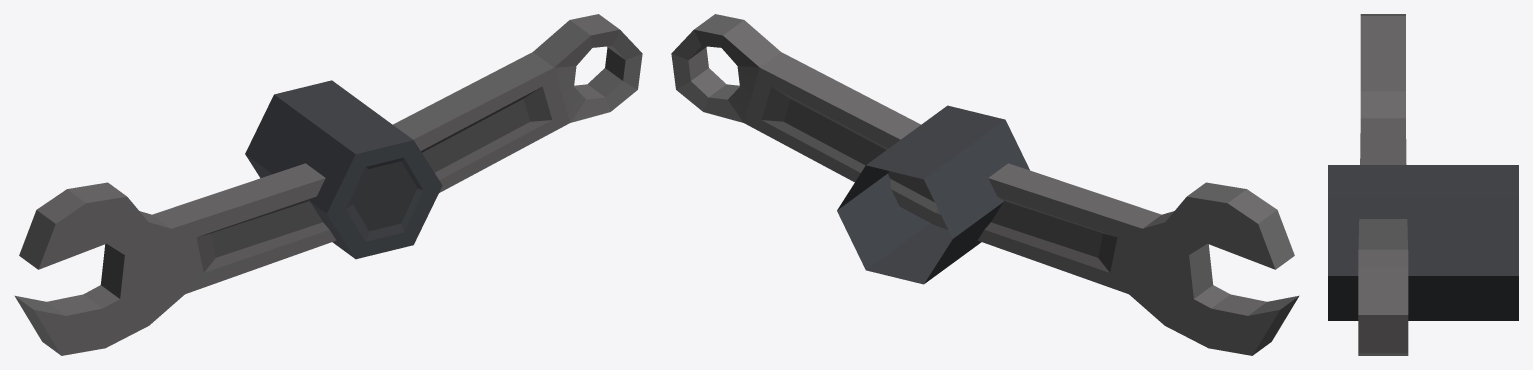
Rendered from SM_Prop_Gumball_Machine_01_Handle_01.obj.
3 renders of one model, left to right at view 1: azimuth 30°, elevation 25°; view 2: azimuth 150°, elevation 25°; view 3: azimuth 270°, elevation 25°, orthographic. The views are drawn at different scales.
Parts seen in each view (by area): view 1: SM_Prop_Gumball_Machine_01_Handle_01_0; view 2: SM_Prop_Gumball_Machine_01_Handle_01_0; view 3: SM_Prop_Gumball_Machine_01_Handle_01_0.
Part boxes in pixels (x1,y1,x2,y2): SM_Prop_Gumball_Machine_01_Handle_01_0: [14, 14, 642, 355]; SM_Prop_Gumball_Machine_01_Handle_01_0: [671, 14, 1299, 355]; SM_Prop_Gumball_Machine_01_Handle_01_0: [1328, 14, 1518, 355].
Bounding box in the file's own units: 0.2448 × 0.0751 × 0.057.
Materials: 1 (1 with a texture image).
